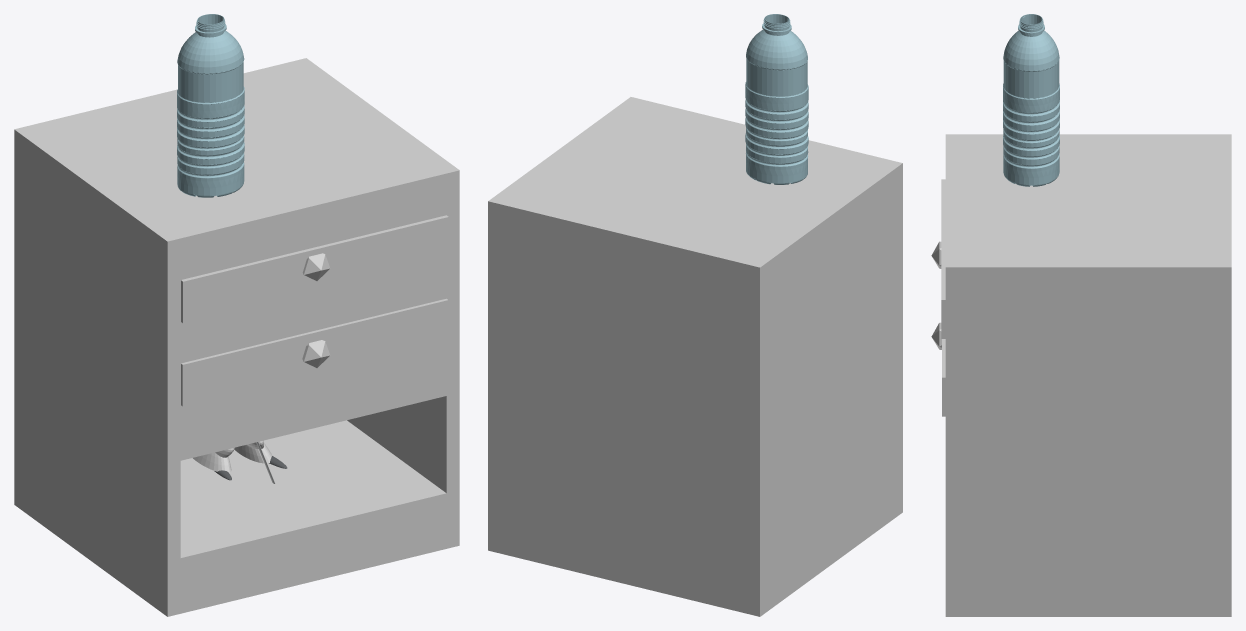
File: Brilliant Turing.glb
3 views of the same model, side by side, from view 1: azimuth 30°, elevation 25°; view 2: azimuth 150°, elevation 25°; view 3: azimuth 270°, elevation 25° (orthographic). The views are drawn at different scales.
Parts seen in each view (by area): view 1: Mesh_Mesh_head_geo.001_lambert2SG.001; view 2: Mesh_Mesh_head_geo.001_lambert2SG.001; view 3: Mesh_Mesh_head_geo.001_lambert2SG.001.
Part boxes in pixels (x1,y1,x2,y2): Mesh_Mesh_head_geo.001_lambert2SG.001: (14, 14, 459, 616); Mesh_Mesh_head_geo.001_lambert2SG.001: (488, 14, 902, 616); Mesh_Mesh_head_geo.001_lambert2SG.001: (931, 14, 1231, 616).
Bounding box in the file's own units: 22 × 39 × 21.
